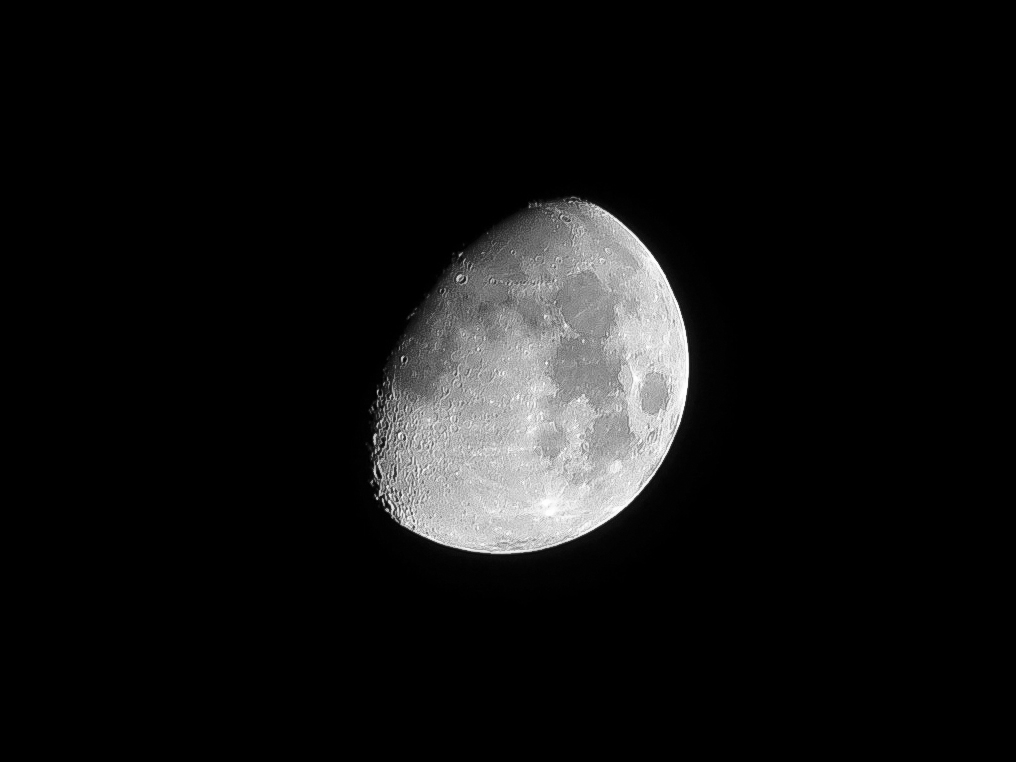crater: (637, 366, 674, 421), (393, 348, 419, 379), (449, 264, 474, 293), (391, 428, 415, 450), (556, 208, 576, 230), (591, 251, 609, 271), (602, 243, 616, 262)
